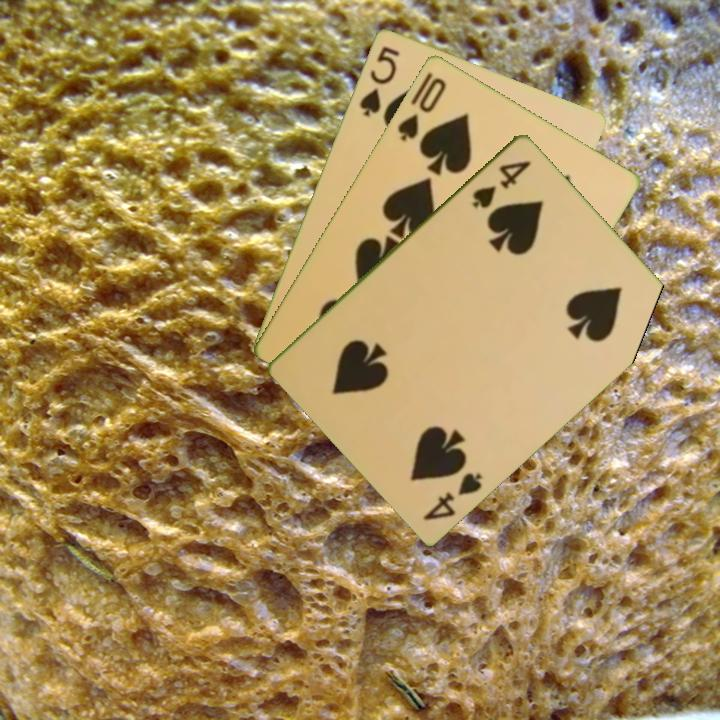10s: (393, 73, 449, 144)
4s: (419, 468, 485, 523), (469, 156, 534, 211)
5s: (355, 42, 403, 119)
